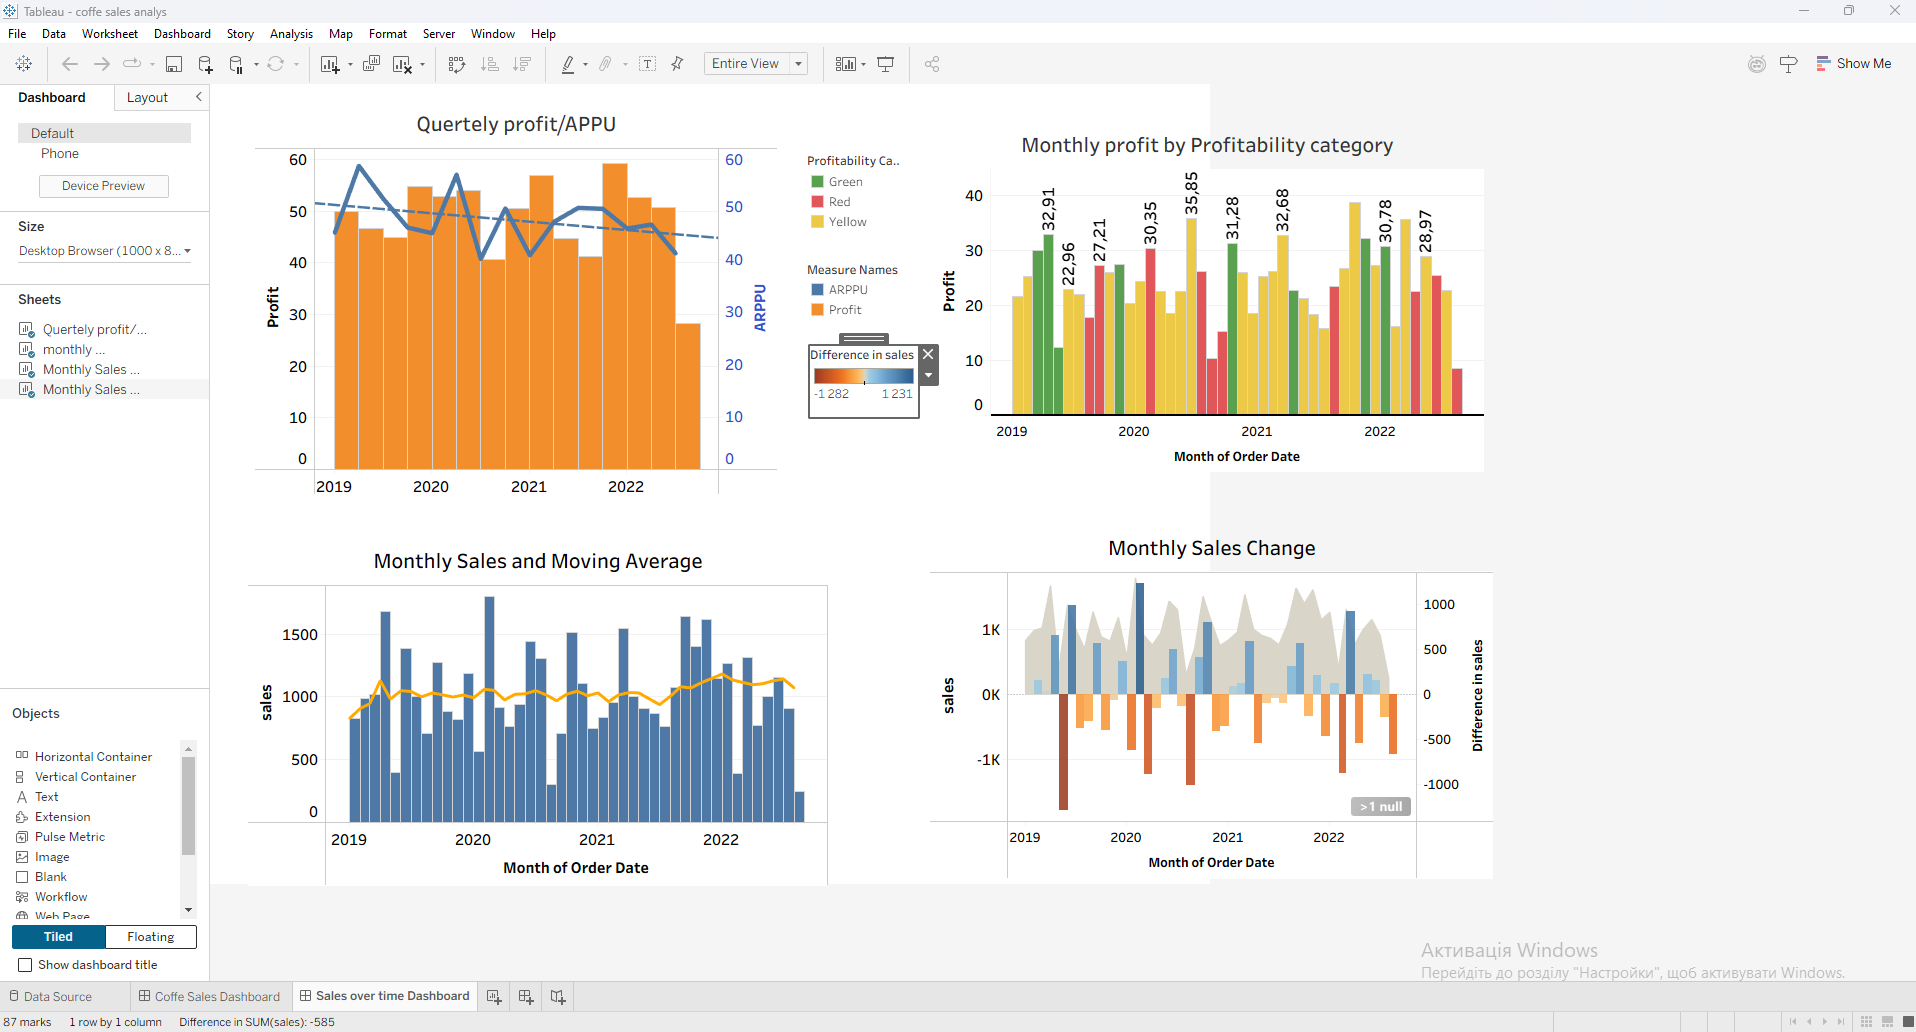

What the dashboard file says about the page in this screenshot:
{"tool":"tableau","page":{"name":"Sales over time Dashboard","canvas":[1000,800],"ordinal":1},"visuals":[{"type":"worksheet","title":"Quertely profit/APPU","mark":"Automatic","rows":["Profit","Calculation_2304631790915594"],"cols":["Order Date"],"box":[45,21,523,390]},{"type":"legend","title":"monthly profitavility","param":"[federated.1me6og813xalm11b007uh0k49k2j].[usr:Calculation_2304631800819724:nk]","box":[597,52,97,103]},{"type":"legend","title":"Quertely profit/APPU","param":"[federated.1me6og813xalm11b007uh0k49k2j].[:Measure Names]","box":[597,177,99,63]},{"type":"legend","title":"Monthly Sales Change","param":"[federated.1me6og813xalm11b007uh0k49k2j].[diff:sum:Calculation_1690003779842048:","box":[600,262,108,71]},{"type":"worksheet","title":"Monthly Sales and Moving Average","mark":"Bar","rows":["Calculation_1690003779842048"],"cols":["Order Date"],"box":[38,458,580,344]}]}

Visuals, with their boxes on the page's 1000x800 design canvas (x1, y1, x2, y2). These are canvas units, not pixel positions in the 1916x1032 screenshot, which may show the page scaled, cropped or inside an application window:
"Quertely profit/APPU" worksheet: [x1=45, y1=21, x2=568, y2=411]
"monthly profitavility" legend: [x1=597, y1=52, x2=694, y2=155]
"Quertely profit/APPU" legend: [x1=597, y1=177, x2=696, y2=240]
"Monthly Sales Change" legend: [x1=600, y1=262, x2=708, y2=333]
"Monthly Sales and Moving Average" worksheet (Bar marks): [x1=38, y1=458, x2=618, y2=802]
